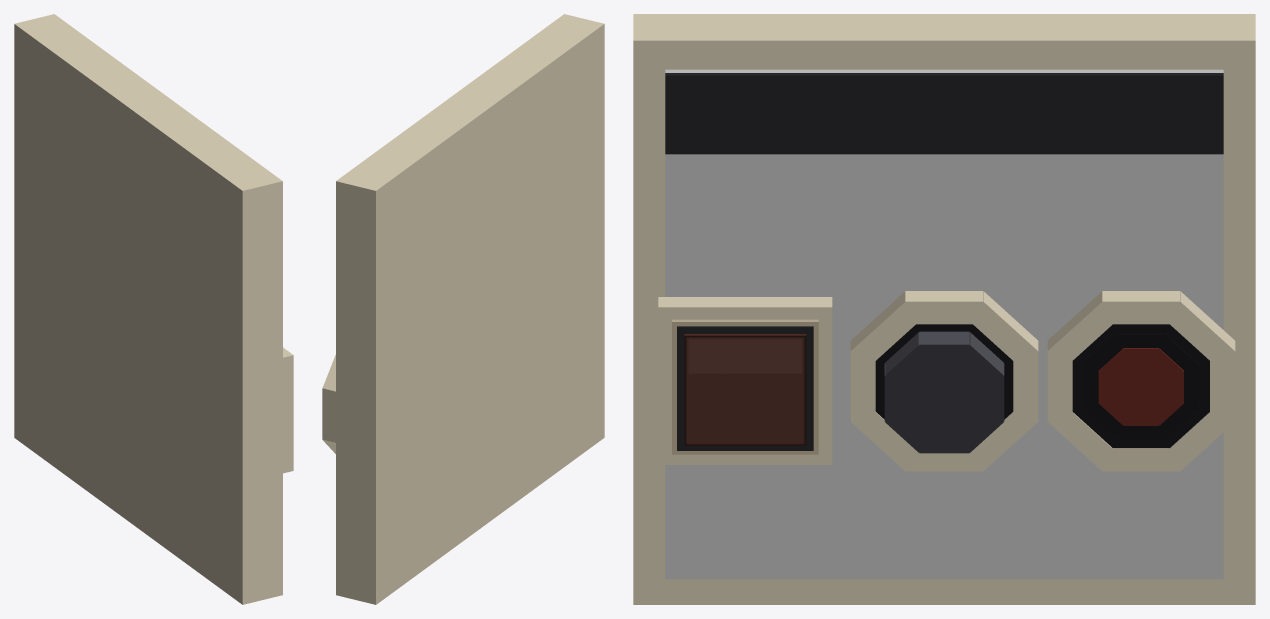
Rendered from alarm_4_surface.obj.
3 views of the same model, side by side, from view 1: azimuth 30°, elevation 25°; view 2: azimuth 150°, elevation 25°; view 3: azimuth 270°, elevation 25° (orthographic). The views are drawn at different scales.
Parts seen in each view (by area): view 1: Panel, Lamp; view 2: Panel, BtnB; view 3: Panel, Lamp, BtnB, BtnA.
Boxes of the visible parts, <box> form: Panel: <box>14,14,282,604</box>; Lamp: <box>283,347,293,473</box>; Panel: <box>336,14,604,604</box>; BtnB: <box>322,354,335,453</box>; Panel: <box>633,14,1255,604</box>; Lamp: <box>658,297,832,464</box>; BtnB: <box>1047,291,1235,471</box>; BtnA: <box>850,291,1038,471</box>.
Bounding box in the file's own units: 0.2016 × 1 × 1.
